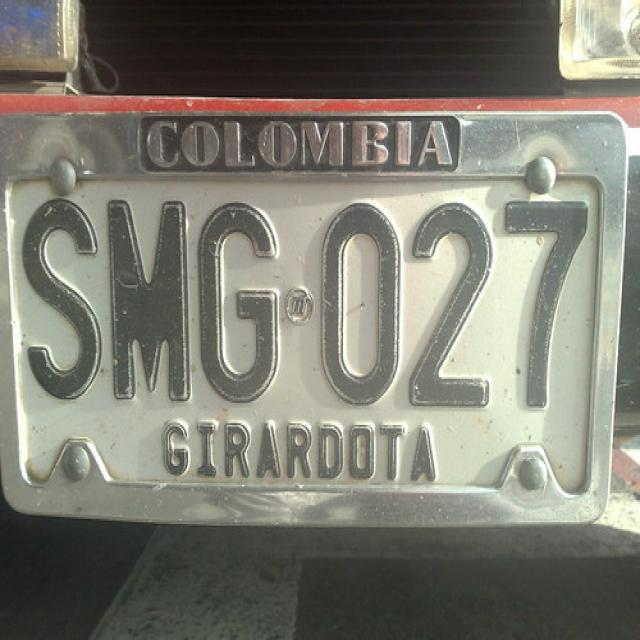placas: (21, 184, 602, 412)
